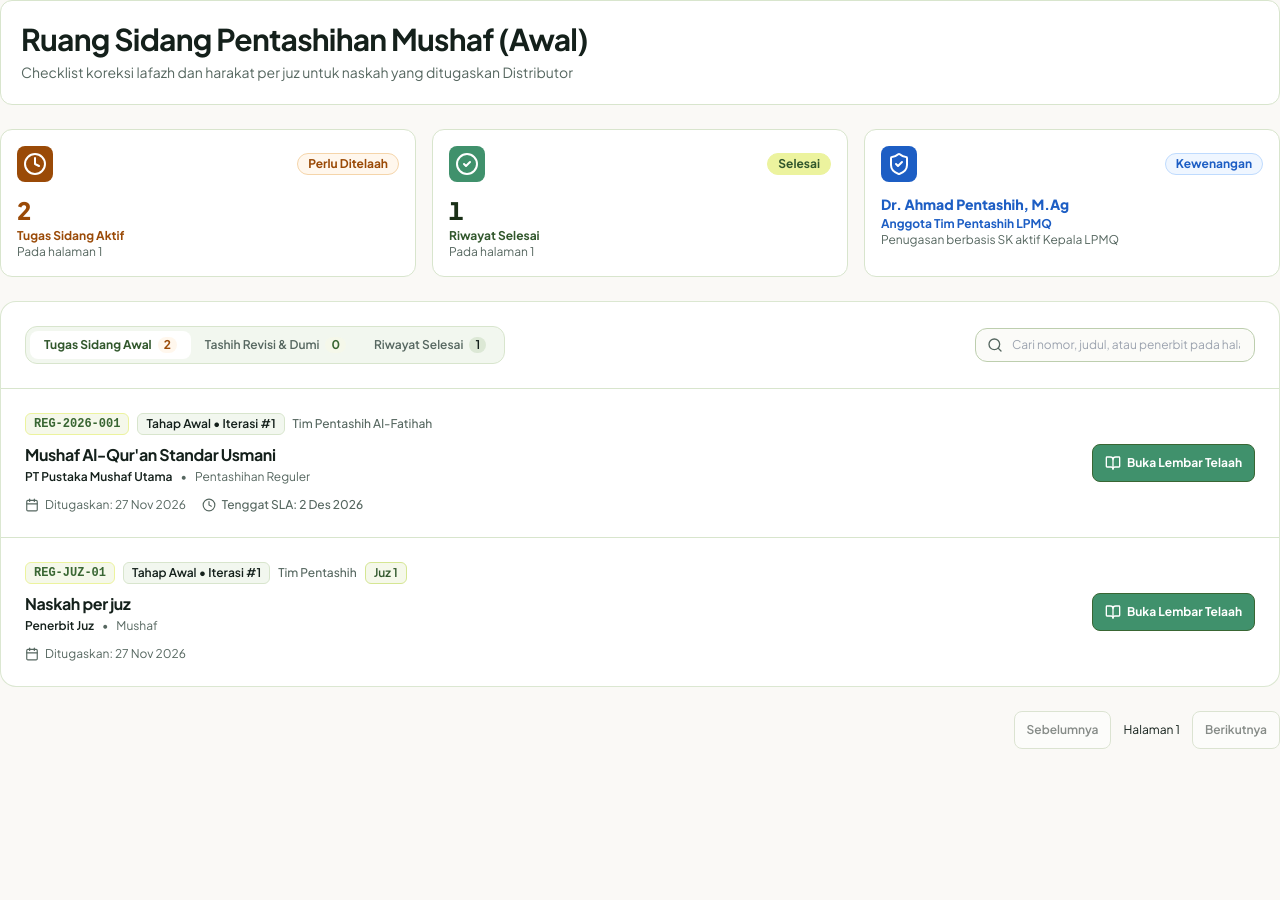
Test: PentashihWorkspacePage Component › membuka lembar telaah sidang dan menampilkan opsi cakupan rekap kelompok
Expected: the text "REG-JUZ-01" is shown, 25,562 -> 115,584
Click the button "Buka Lembar Telaah" in the row of "Pentashihan Reguler" at (1173, 463), box 1092,444 -> 1255,482
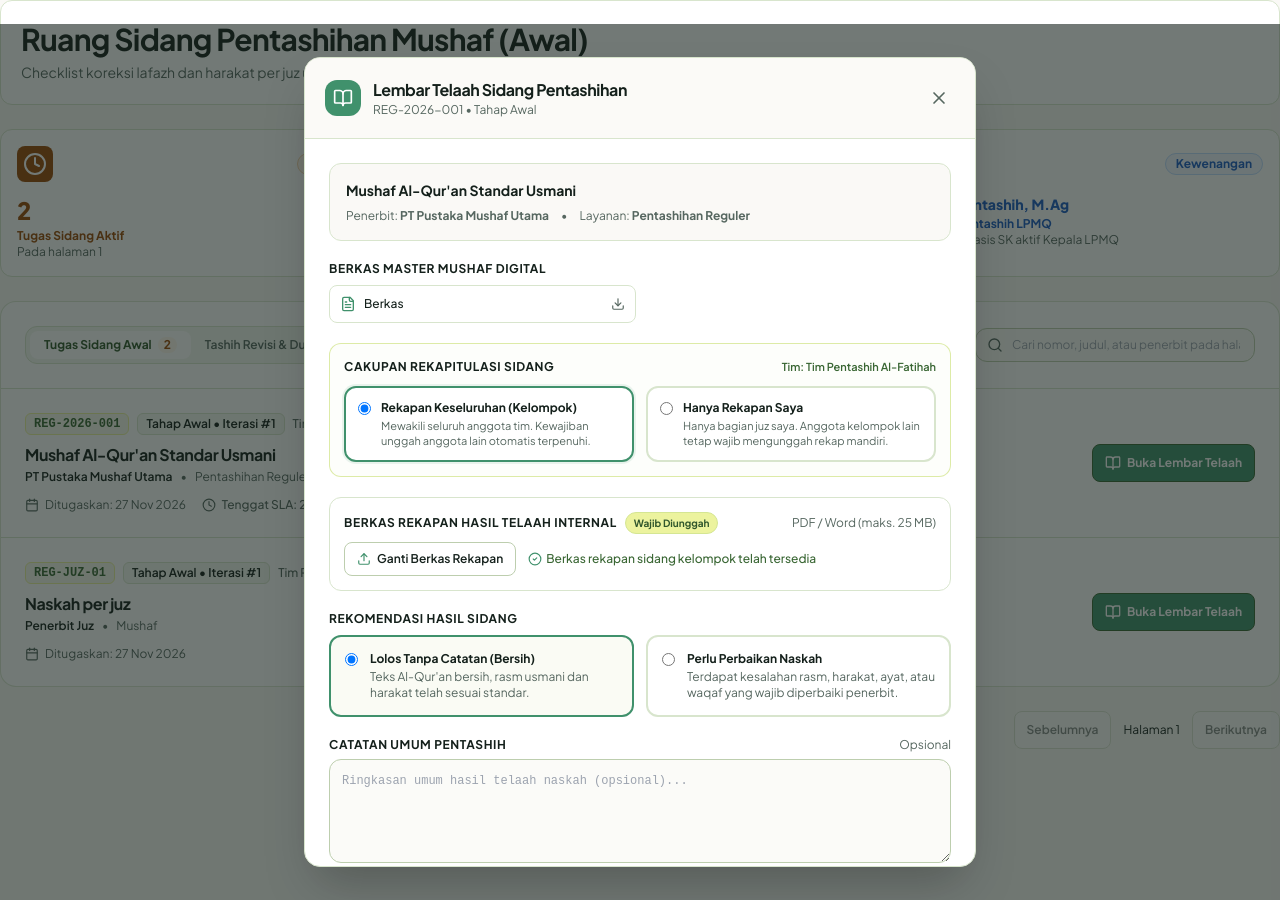
Now the heading "Lembar Telaah Sidang Pentashihan" is shown, box 373,78 -> 627,102
Now the text "Cakupan Rekapitulasi Sidang" is shown, box 344,359 -> 554,375
Now the text "Rekapan Keseluruhan (Kelompok)" is shown, box 381,400 -> 577,415
